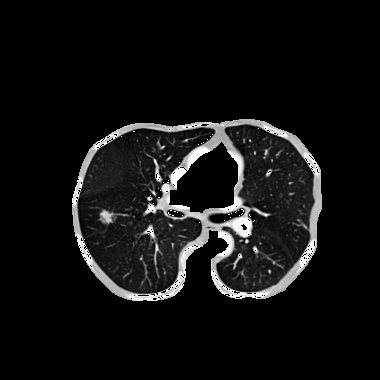PN: (99, 209, 113, 223)
